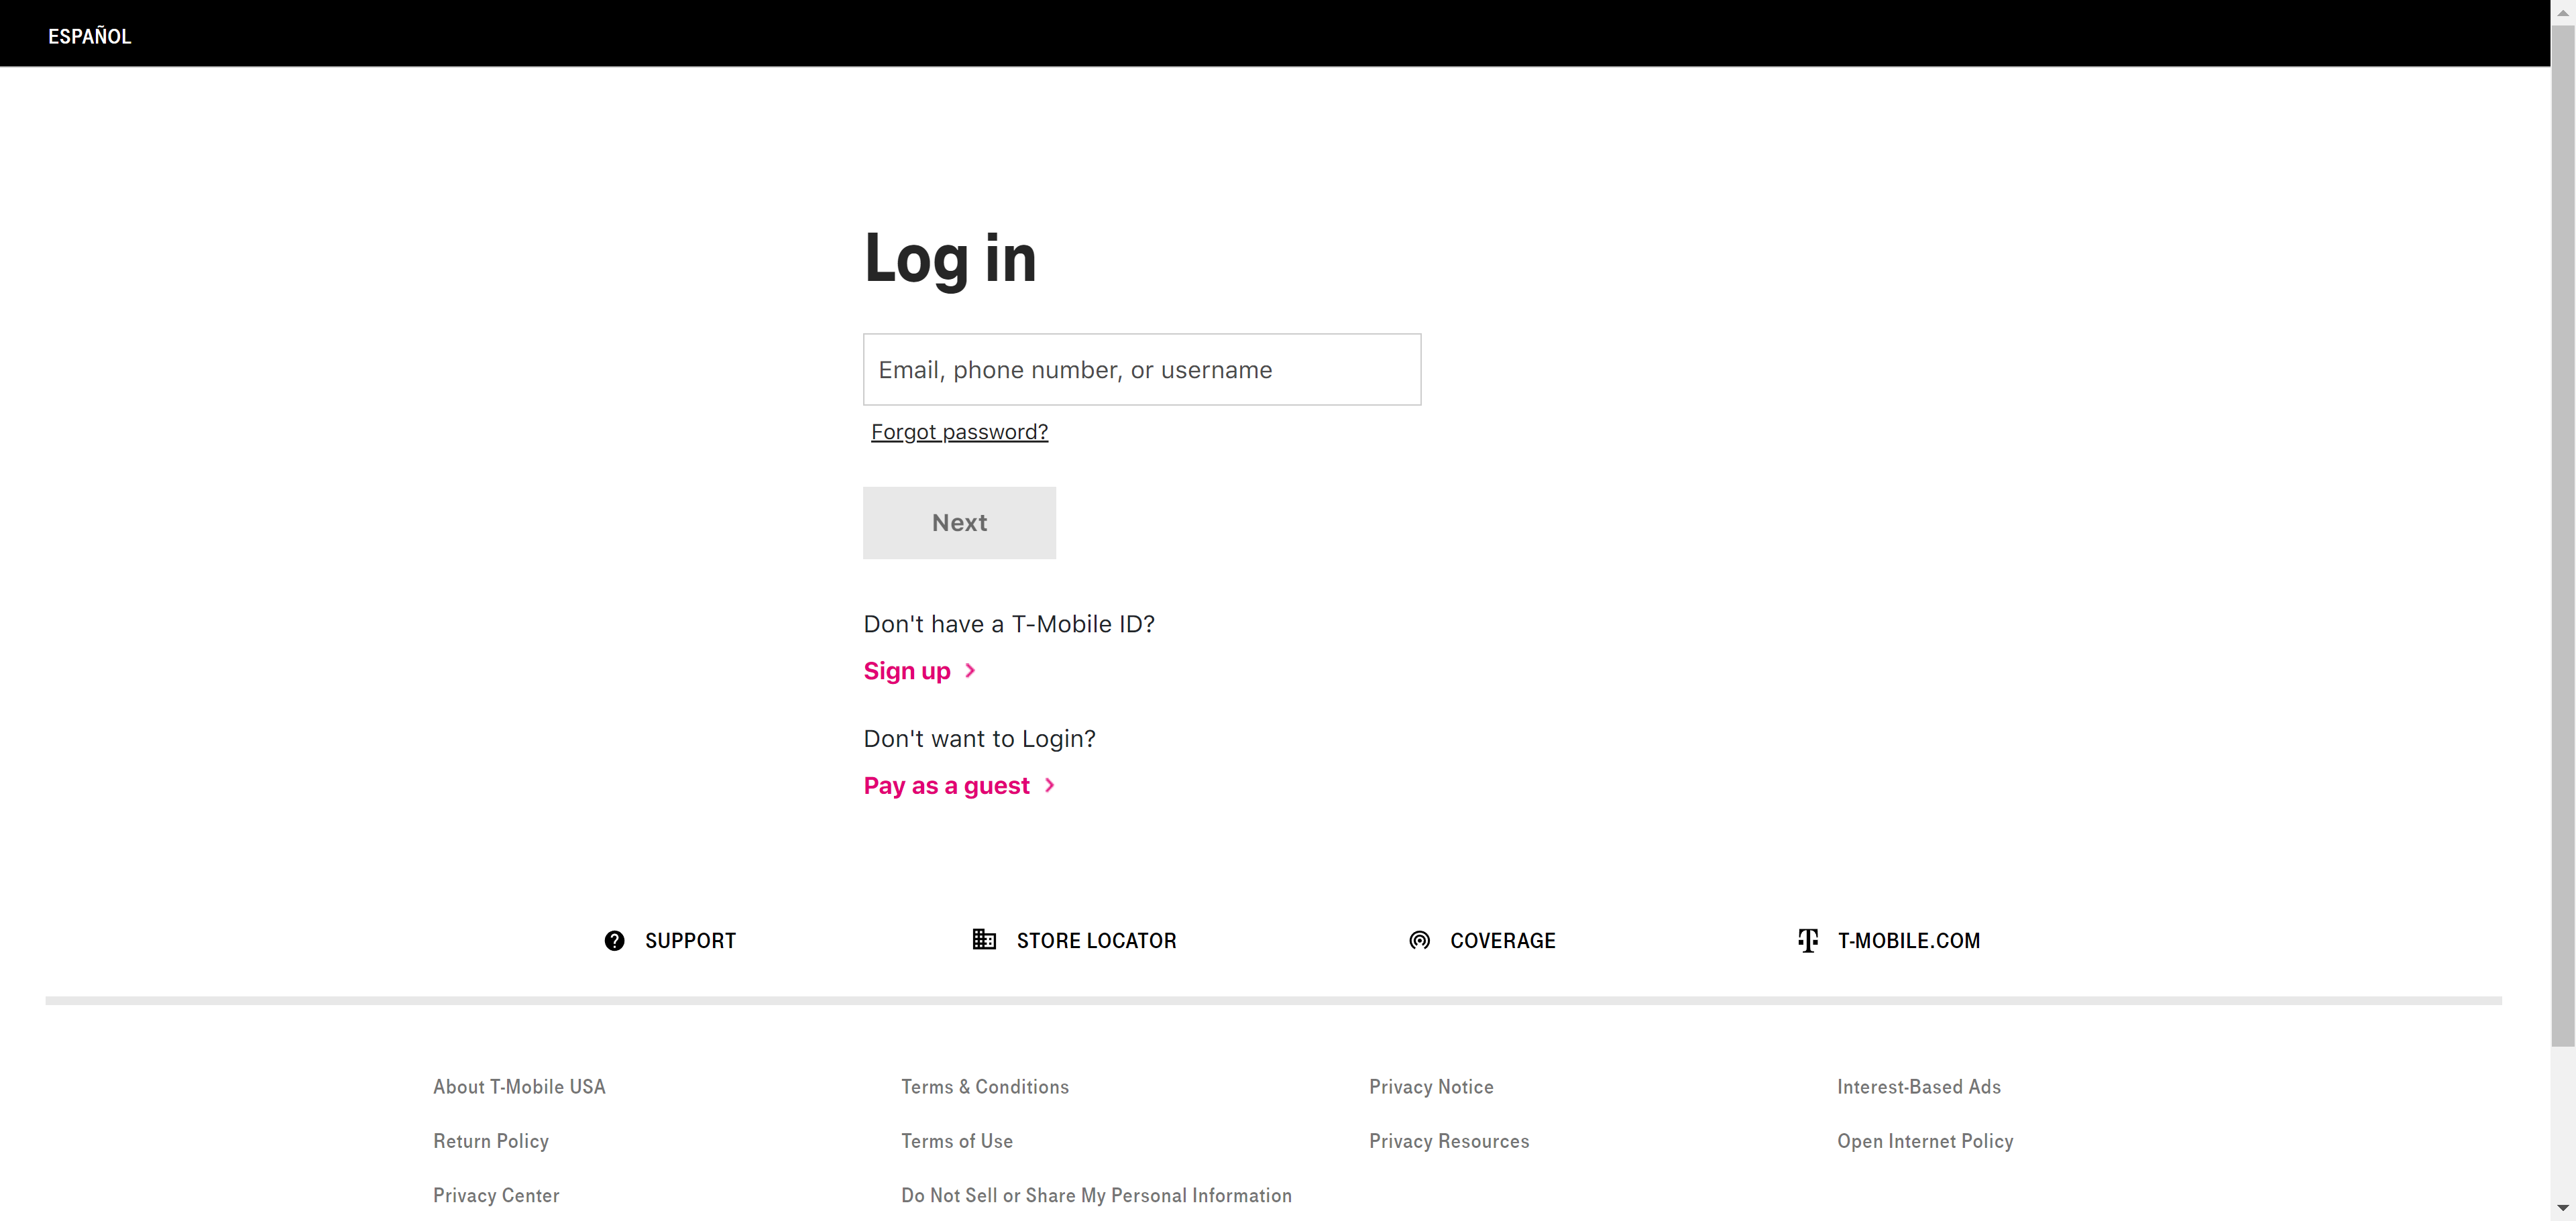login_button: (862, 485, 1056, 559)
login_form: (851, 319, 1433, 570)
